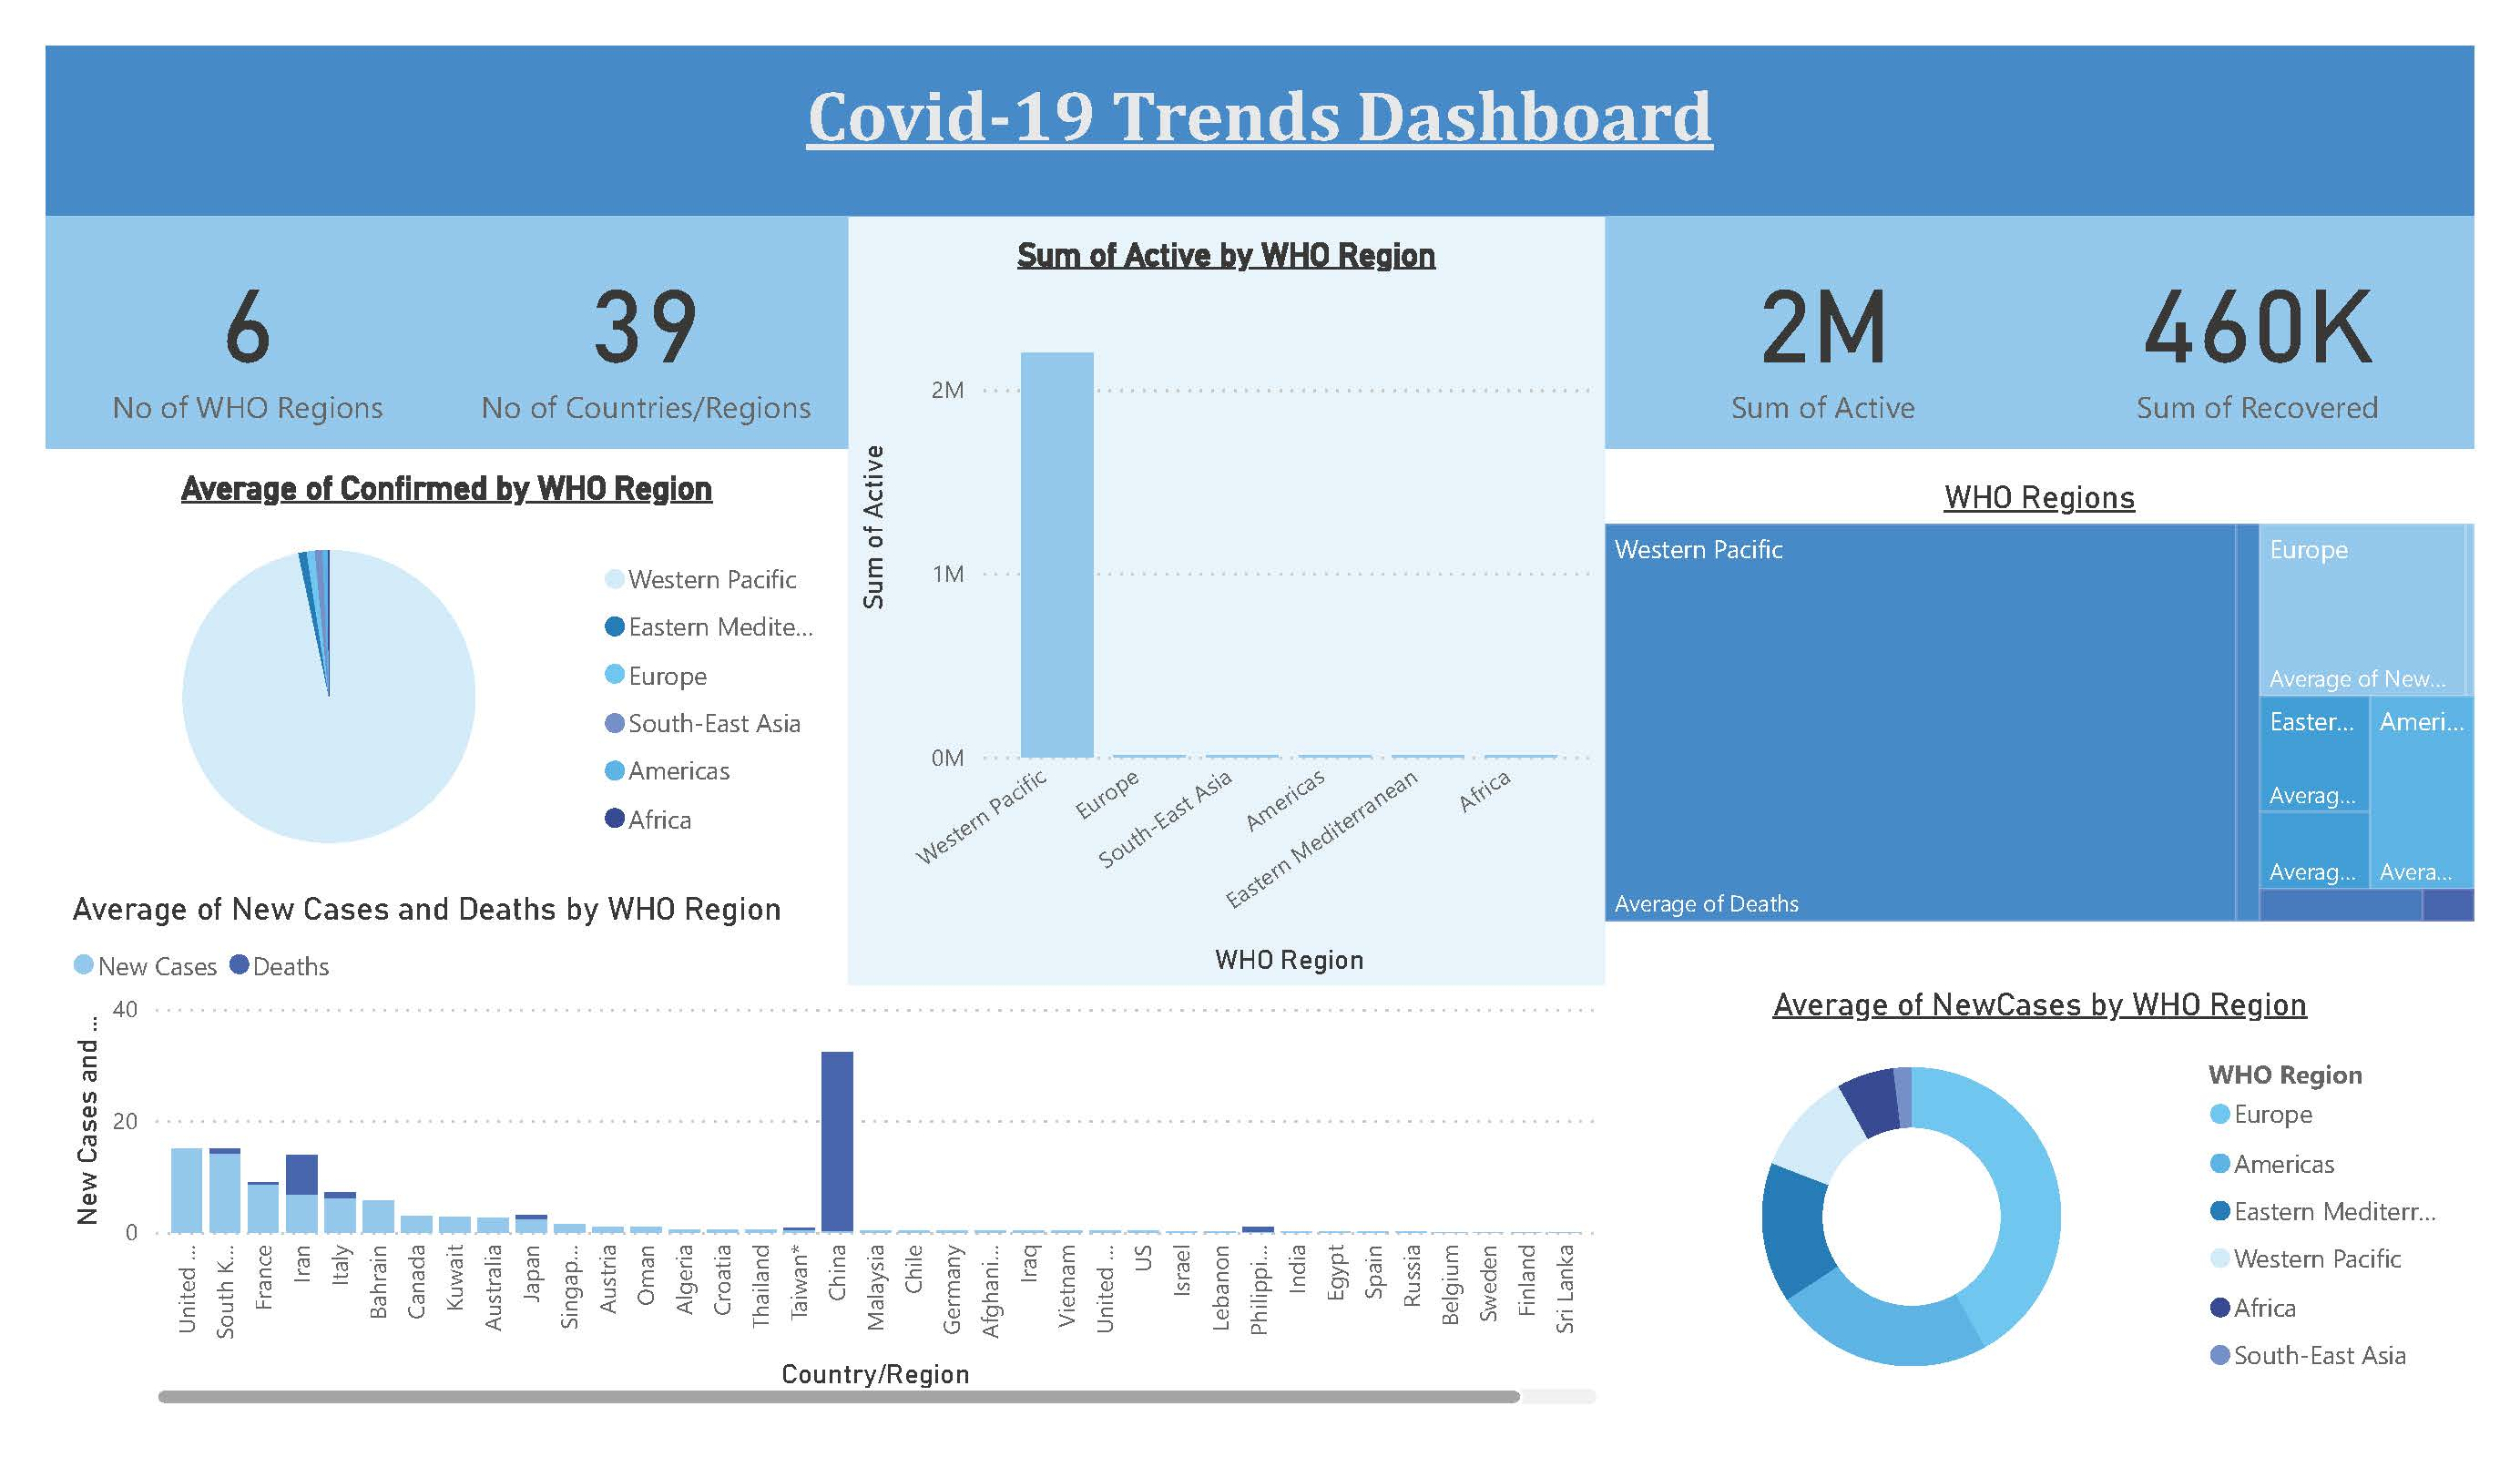

The dashboard page shown, as its layout file describes it:
{"tool":"powerbi","page":{"name":"Dashboard","canvas":[1280,720],"ordinal":0},"visuals":[{"type":"textbox","box":[0,0,1279.6,90.1],"z":0},{"type":"card","fields":{"Values":["Count(full-newcases-fatalities.WHO Region)"]},"box":[0,90.1,213.3,123.2],"z":1000},{"type":"card","fields":{"Values":["Count(full-newcases-fatalities.Country/Region)"]},"box":[209.6,90.1,213.3,123.2],"z":2000},{"type":"card","fields":{"Values":["Sum(full-newcases-fatalities.Active)"]},"box":[821.8,90.1,229.8,123.2],"z":3000},{"type":"card","fields":{"Values":["Sum(full-newcases-fatalities.Recovered)"]},"box":[1051.6,90.1,228,123.2],"z":4000},{"type":"columnChart","title":"Average of New Cases and Deaths by WHO Region","fields":{"Y":["Avg(full-newcases-fatalities.NewCases)","Avg(full-newcases-fatalities.Deaths)"],"Category":["full-newcases-fatalities.Country/Region"]},"box":[9.2,444.9,812.6,275.8],"z":5000},{"type":"pieChart","fields":{"Category":["full-newcases-fatalities.WHO Region"],"Y":["Avg(full-newcases-fatalities.Confirmed)"]},"box":[0,213.3,422.8,231.6],"z":6000},{"type":"donutChart","fields":{"Category":["full-newcases-fatalities.WHO Region"],"Y":["Avg(full-newcases-fatalities.NewCases)"]},"box":[821.8,494.5,457.8,226.1],"z":7000},{"type":"treemap","title":"WHO Regions","fields":{"Group":["full-newcases-fatalities.WHO Region"],"Values":["Avg(full-newcases-fatalities.NewCases)","Avg(full-newcases-fatalities.Deaths)"]},"box":[821.8,213.3,457.8,253.7],"z":8000},{"type":"columnChart","fields":{"Y":["Sum(full-newcases-fatalities.Active)"],"Category":["full-newcases-fatalities.WHO Region"]},"box":[422.8,90.1,398.9,404.5],"z":9000}]}

Visuals, with their boxes in screenshot pixels (x1, y1, x2, y2):
textbox: (left=46, top=46, right=2474, bottom=217)
card - Count(full-newcases-fatalities.WHO Region): (left=46, top=217, right=450, bottom=450)
card - Count(full-newcases-fatalities.Country/Region): (left=444, top=217, right=848, bottom=450)
card - Sum(full-newcases-fatalities.Active): (left=1605, top=217, right=2041, bottom=450)
card - Sum(full-newcases-fatalities.Recovered): (left=2041, top=217, right=2474, bottom=450)
"Average of New Cases and Deaths by WHO Region" columnChart: (left=63, top=890, right=1605, bottom=1411)
pieChart - full-newcases-fatalities.WHO Region x Avg(full-newcases-fatalities.Confirmed): (left=46, top=450, right=848, bottom=890)
donutChart - full-newcases-fatalities.WHO Region x Avg(full-newcases-fatalities.NewCases): (left=1605, top=983, right=2474, bottom=1411)
"WHO Regions" treemap: (left=1605, top=450, right=2474, bottom=932)
columnChart - Sum(full-newcases-fatalities.Active) x full-newcases-fatalities.WHO Region: (left=848, top=217, right=1605, bottom=983)
